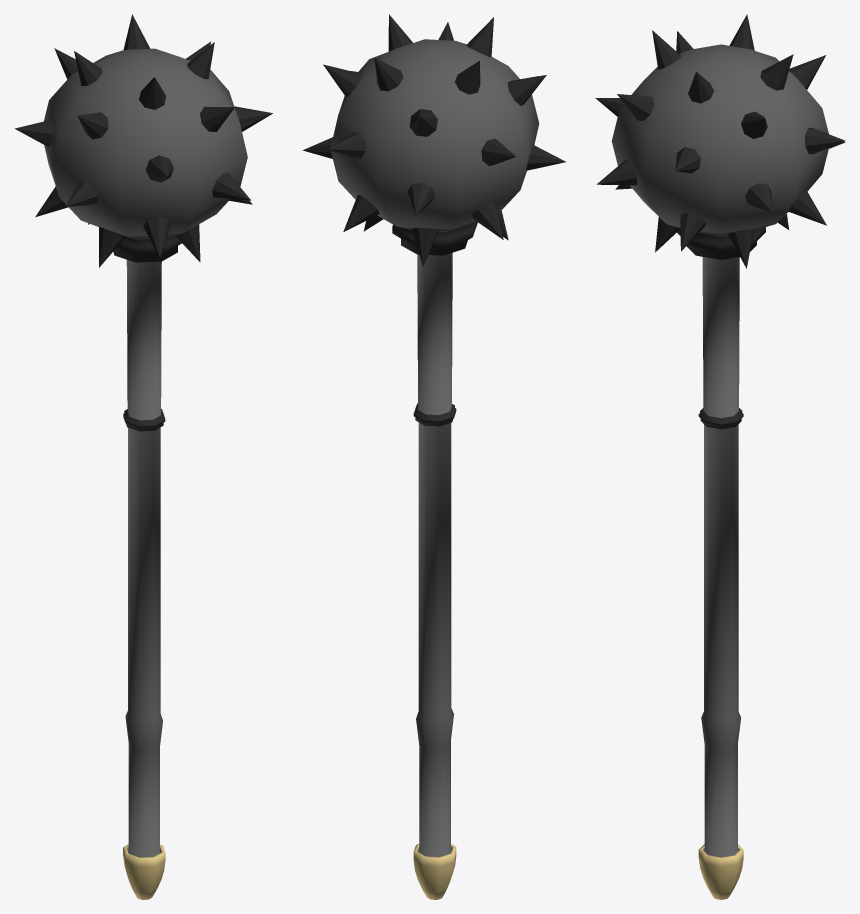
Rendered from Sword_Armor_3.fbx.
3 views of the same model, side by side, from view 1: azimuth 30°, elevation 25°; view 2: azimuth 150°, elevation 25°; view 3: azimuth 270°, elevation 25° (orthographic).
Parts seen in each view (by area): view 1: Sword 1.004; view 2: Sword 1.004; view 3: Sword 1.004.
Boxes of the visible parts, left/top/right/bottom form: Sword 1.004: left=15, top=14, right=272, bottom=899; Sword 1.004: left=303, top=14, right=565, bottom=899; Sword 1.004: left=595, top=14, right=845, bottom=899.
Size of the model in its own units: 30.68 by 118 by 31.33.
